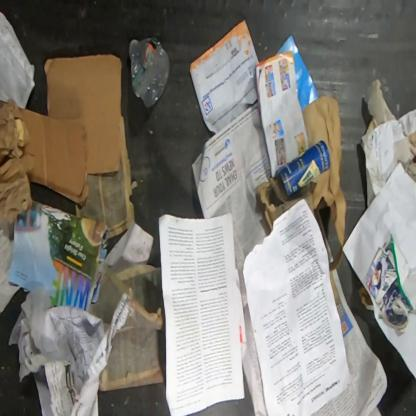cardboard: (44, 55, 124, 174), (21, 108, 90, 204)
rigid_plastic: (129, 36, 171, 107)
